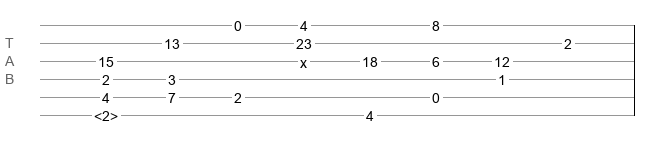0: (234, 18, 242, 28), (432, 90, 440, 100)
1: (498, 72, 506, 82)
12: (494, 54, 510, 64)
13: (164, 36, 180, 46)
15: (98, 54, 114, 64)
18: (362, 54, 378, 64)
2: (102, 72, 110, 82), (234, 90, 242, 100), (564, 36, 572, 46)
23: (296, 36, 312, 46)
3: (168, 72, 176, 82)
4: (102, 90, 110, 100), (300, 18, 308, 28), (366, 108, 374, 118)
6: (432, 54, 440, 64)
7: (168, 90, 176, 100)
8: (432, 18, 440, 28)
harmonic: (94, 108, 118, 118)
x: (300, 55, 307, 63)
